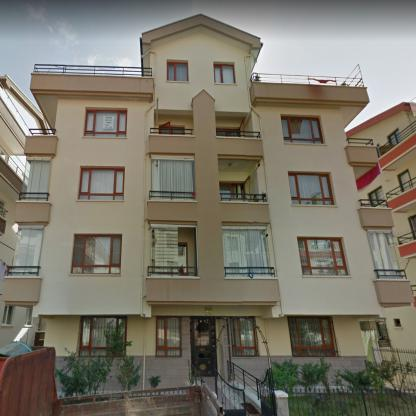door: (287, 317, 336, 356), (191, 317, 217, 376), (245, 176, 252, 202), (159, 122, 169, 134), (240, 120, 245, 136)
window: (222, 227, 270, 276), (297, 238, 348, 275), (72, 236, 121, 274), (152, 160, 196, 200), (80, 316, 123, 356), (367, 231, 402, 278), (11, 226, 43, 274), (78, 168, 124, 200), (289, 173, 334, 204), (82, 108, 126, 138), (150, 228, 177, 276), (22, 157, 51, 200), (281, 117, 323, 143), (231, 316, 257, 356), (156, 316, 181, 356), (167, 62, 188, 81), (214, 64, 235, 83), (398, 170, 412, 192), (178, 244, 188, 274), (369, 187, 385, 205), (2, 306, 14, 324), (388, 130, 402, 144), (220, 182, 231, 199), (408, 216, 416, 237), (25, 308, 32, 324), (171, 127, 184, 134), (1, 199, 6, 215), (394, 319, 400, 327), (217, 131, 227, 135)
